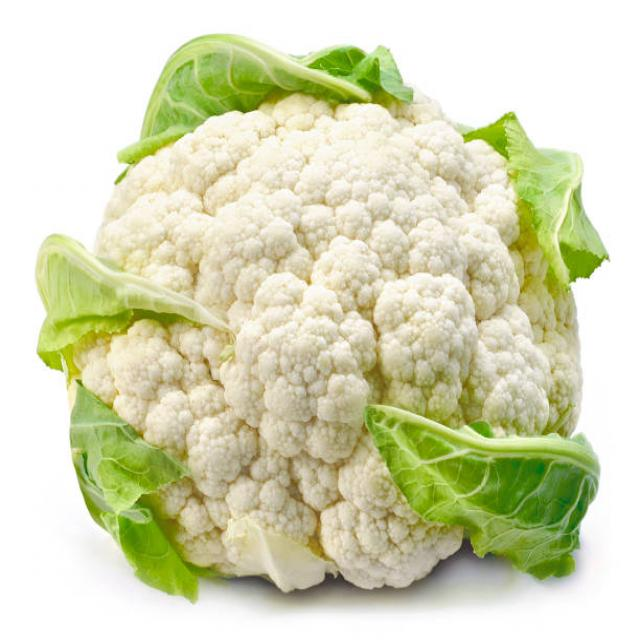Cauliflower head: (32, 0, 640, 640)
